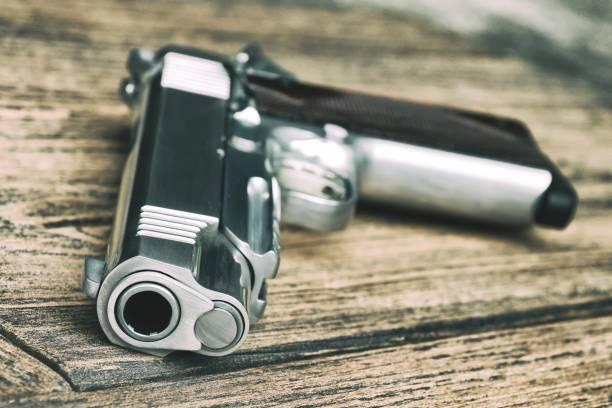weapon: (85, 30, 576, 356)
